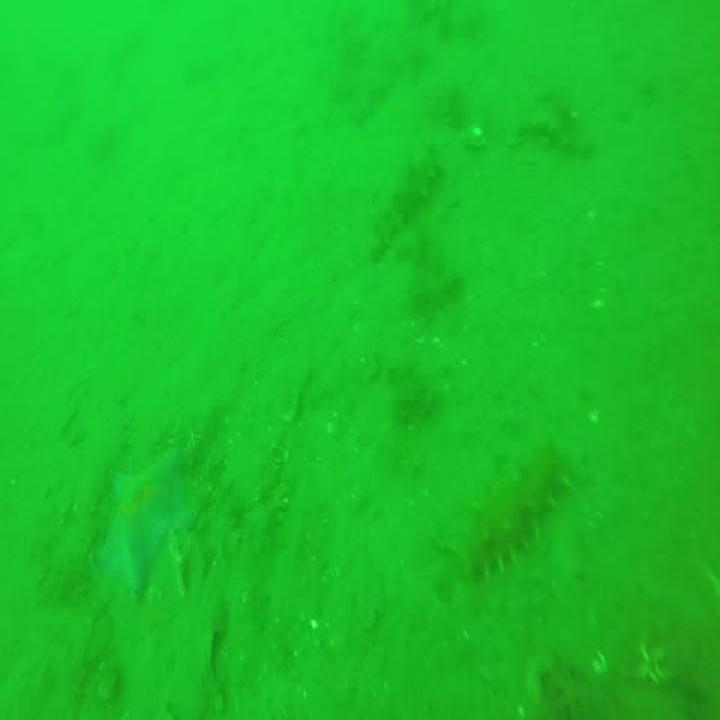holothurian: (441, 437, 565, 574), (339, 9, 431, 115), (366, 139, 442, 254)
starfish: (90, 445, 198, 599)
